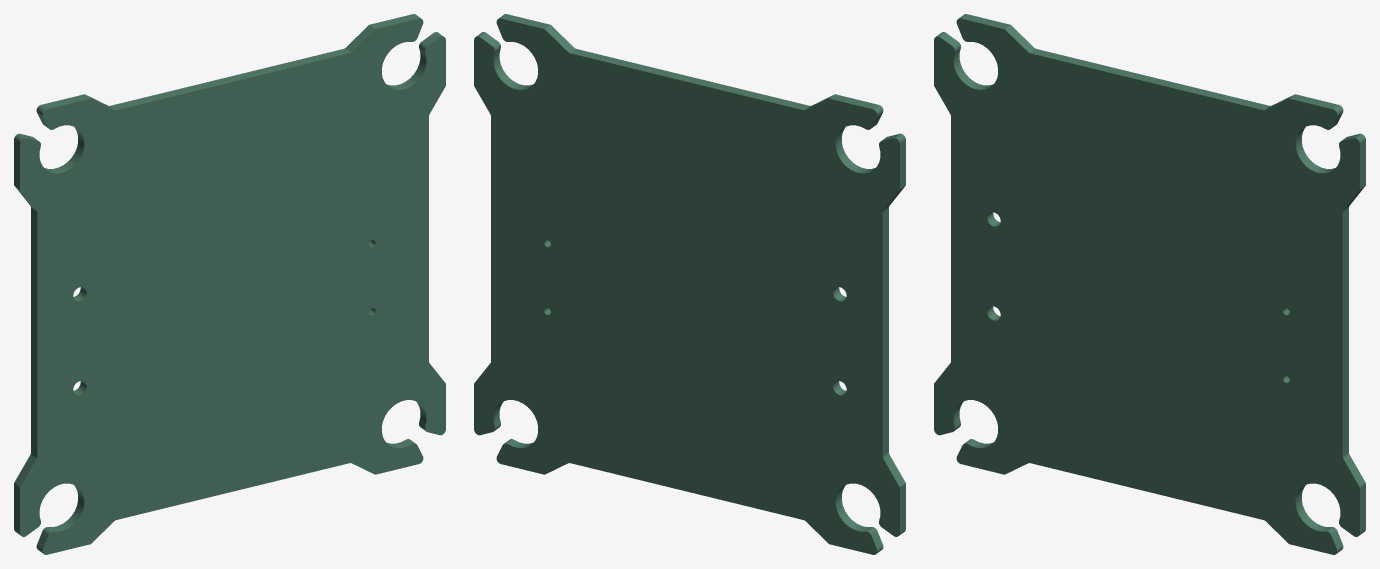
Rendered from fc-board.glb.
The picture shows the model from 3 angles, left to right: view 1: azimuth 30°, elevation 25°; view 2: azimuth 150°, elevation 25°; view 3: azimuth 330°, elevation 25°; orthographic projection.
Parts seen in each view (by area): view 1: empty_2; view 2: empty_2; view 3: empty_2.
Part boxes in pixels (bbox=[...]): empty_2: bbox=[14, 14, 445, 554]; empty_2: bbox=[474, 14, 905, 554]; empty_2: bbox=[934, 14, 1365, 554].
Size of the model in its own units: 0.0379 by 0.0379 by 0.000938.
